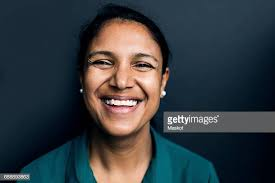indian_female: (66, 5, 171, 138)
